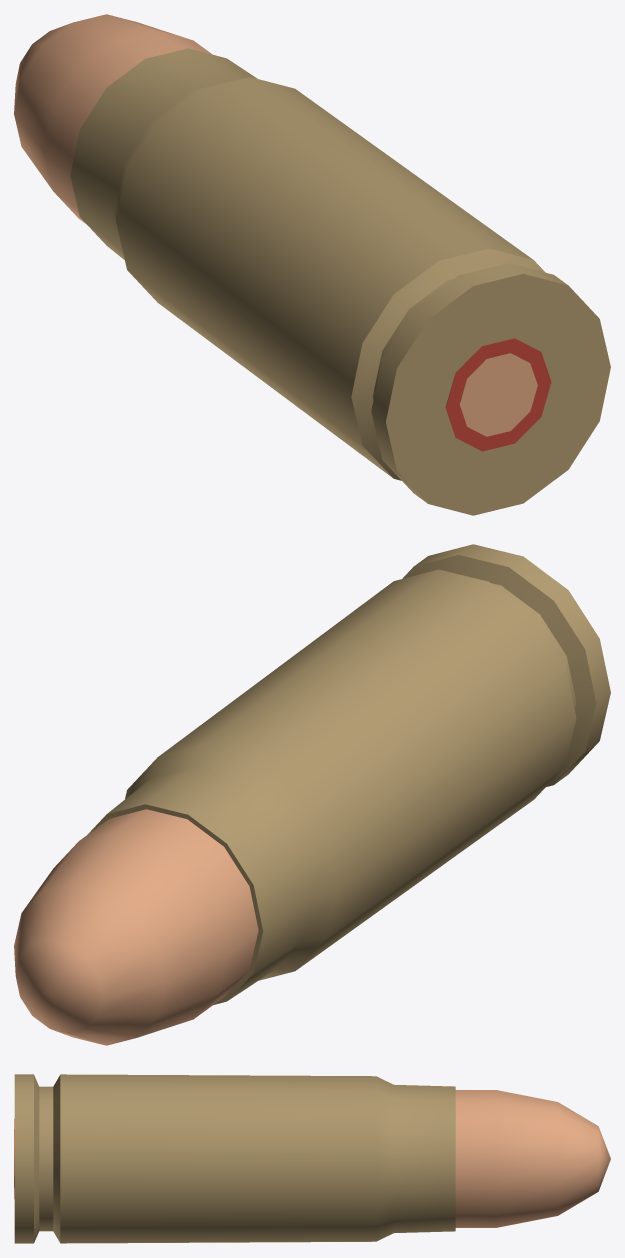
The model's file is round_762x25_repack.glb.
3 views of the same model, one above another, from view 1: azimuth 30°, elevation 25°; view 2: azimuth 150°, elevation 25°; view 3: azimuth 270°, elevation 25° (orthographic). The views are drawn at different scales.
Visible parts, largest first — view 1: body; view 2: body; view 3: body.
Boxes of the visible parts, x1=… form: body: x1=14, y1=14, x2=610, y2=515; body: x1=14, y1=544, x2=610, y2=1045; body: x1=14, y1=1074, x2=610, y2=1243.
Size of the model in its own units: 0.0098 by 0.00955 by 0.0338.
